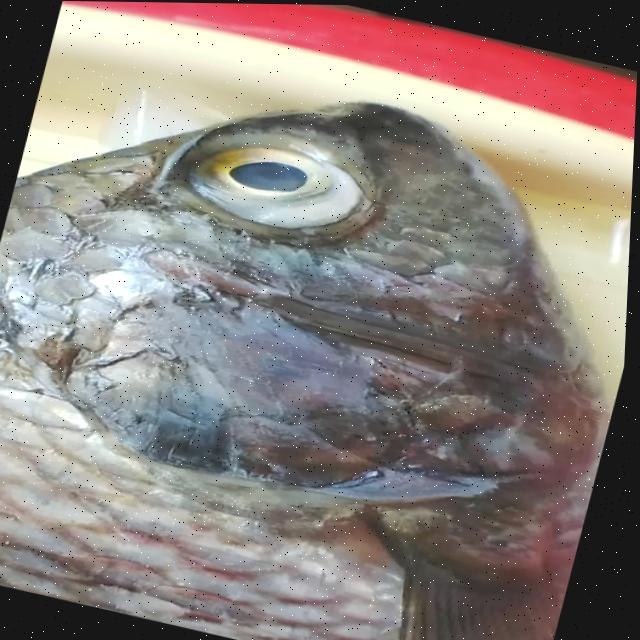Fresh: (0, 254, 601, 640), (162, 108, 380, 251)
